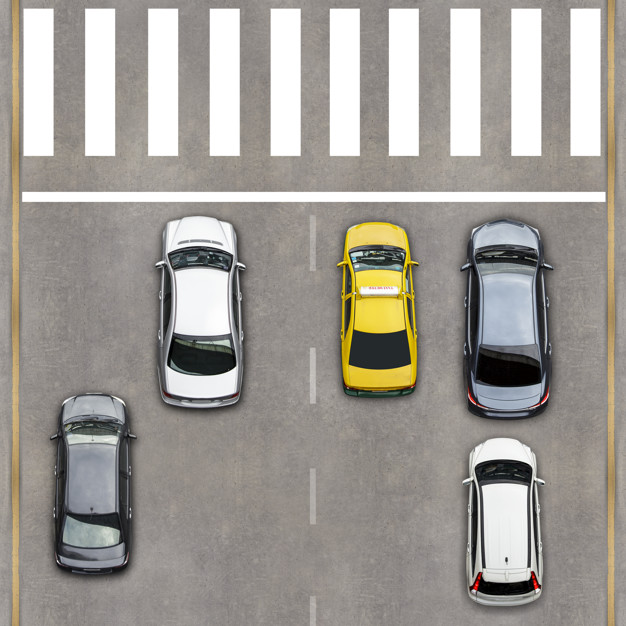Car: (455, 217, 557, 423), (154, 213, 249, 417), (49, 389, 136, 580), (334, 218, 420, 402), (463, 435, 545, 607)
LaneMark: (22, 191, 606, 202), (267, 9, 304, 157), (208, 6, 243, 155), (510, 6, 543, 157), (82, 7, 115, 156), (450, 6, 482, 155), (328, 8, 360, 156), (387, 7, 419, 155), (568, 8, 600, 156), (146, 8, 177, 156), (25, 8, 54, 156)
